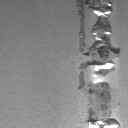slag inclusion: (74, 0, 121, 128)
